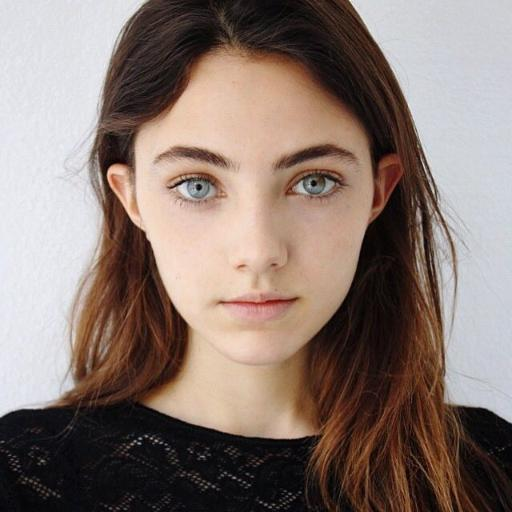left_eye: (284, 171, 349, 204)
left_lip_corner: (290, 292, 307, 311)
right_eye: (167, 176, 226, 208)
right_lip_corner: (214, 296, 232, 316)
